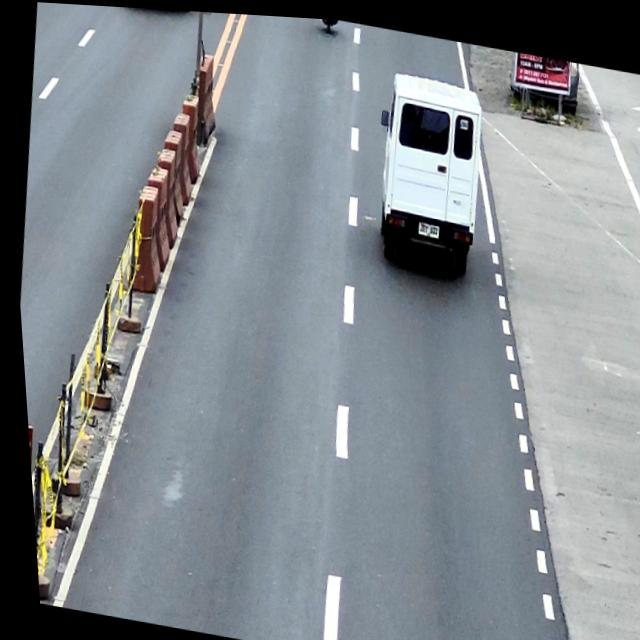Car: (361, 65, 493, 265)
License-Plate: (414, 216, 437, 232)
